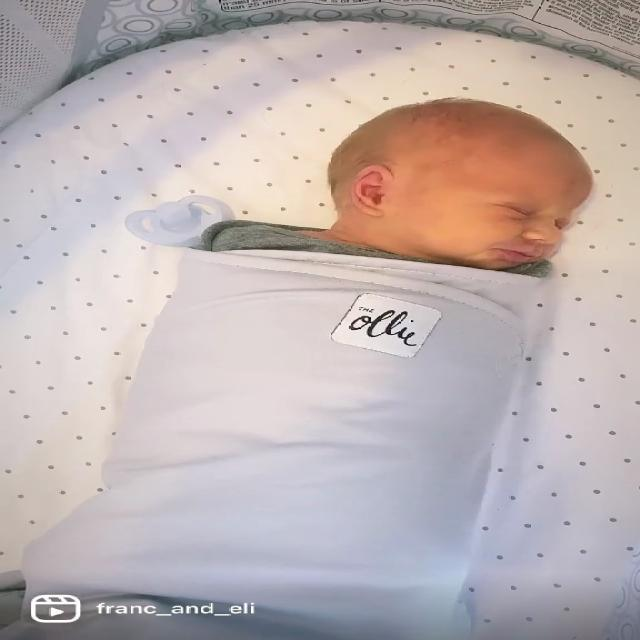baby: (7, 95, 591, 640)
